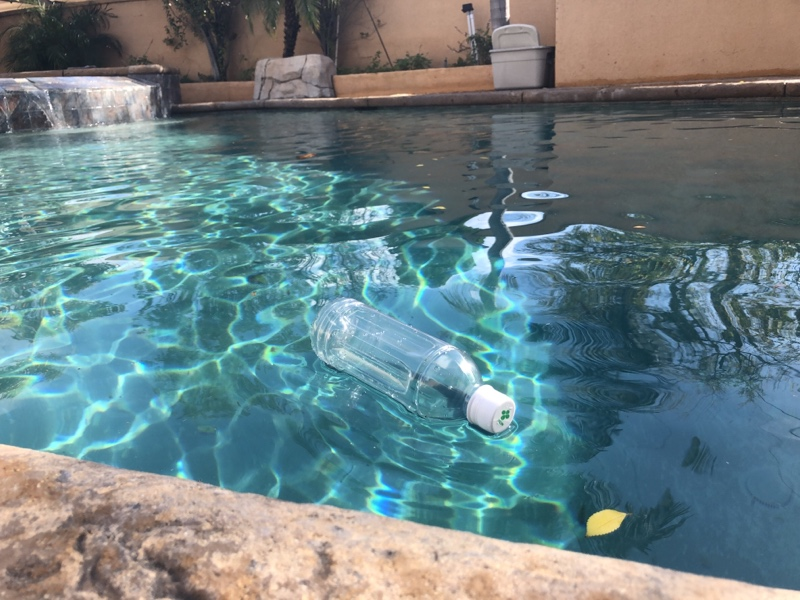Plastic Bottle: (308, 295, 520, 440)
